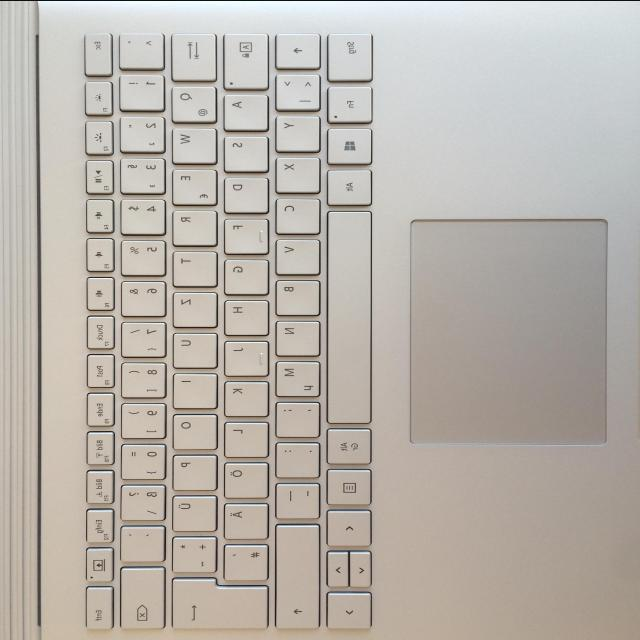0: (117, 441, 165, 478)
1: (116, 71, 164, 109)
2: (116, 113, 164, 152)
3: (116, 154, 164, 192)
4: (116, 196, 164, 232)
5: (116, 236, 164, 273)
6: (117, 277, 165, 315)
7: (118, 319, 165, 356)
8: (117, 359, 165, 396)
9: (117, 399, 165, 437)
a: (220, 91, 267, 129)
accent: (116, 523, 164, 560)
ae: (220, 499, 268, 537)
alt-left: (323, 166, 371, 204)
altgr-right: (325, 425, 371, 463)
b: (272, 276, 319, 314)
c: (272, 195, 319, 233)
caret: (115, 30, 163, 66)
comma: (271, 398, 319, 436)
d: (220, 174, 268, 212)
del: (116, 564, 164, 628)
e: (168, 165, 216, 203)
enter: (168, 575, 268, 628)
f: (220, 215, 268, 253)
g: (221, 257, 267, 294)
h: (221, 297, 268, 334)
hash: (220, 541, 268, 579)
i: (168, 370, 216, 407)
j: (220, 338, 268, 374)
k: (220, 378, 268, 415)
keyboard: (72, 23, 386, 637)
l: (220, 419, 267, 455)
less: (272, 70, 320, 110)
m: (271, 357, 319, 395)
minus: (272, 480, 318, 518)
n: (272, 317, 319, 354)
o: (168, 410, 216, 448)
oe: (220, 459, 268, 497)
p: (168, 451, 216, 489)
plus: (168, 533, 216, 571)
point: (272, 439, 318, 477)
q: (168, 81, 216, 121)
r: (168, 207, 216, 245)
s: (220, 132, 268, 170)
shift-left: (272, 31, 320, 67)
shift-lock: (220, 30, 268, 88)
shift-right: (271, 521, 319, 627)
space: (322, 208, 372, 423)
ss: (116, 481, 164, 519)
strg-left: (324, 28, 372, 80)
t: (169, 248, 215, 285)
tab: (168, 30, 216, 79)
u: (169, 329, 217, 366)
ue: (168, 492, 216, 530)
v: (272, 236, 319, 274)
w: (167, 124, 215, 161)
x: (272, 154, 318, 192)
y: (272, 112, 319, 150)
z: (168, 288, 216, 326)
